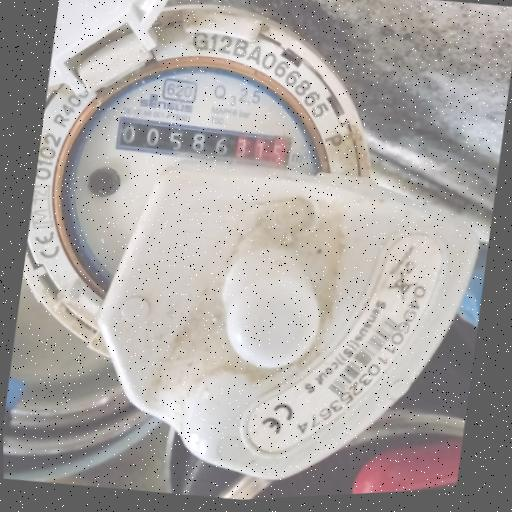0: (116, 120, 143, 149), (138, 122, 165, 150)
1: (251, 137, 271, 166)
3: (230, 133, 254, 162)
5: (265, 133, 291, 170), (160, 125, 190, 156)
6: (207, 131, 235, 160)
8: (186, 129, 213, 157)
border_water_meter_number: (110, 105, 297, 183)
